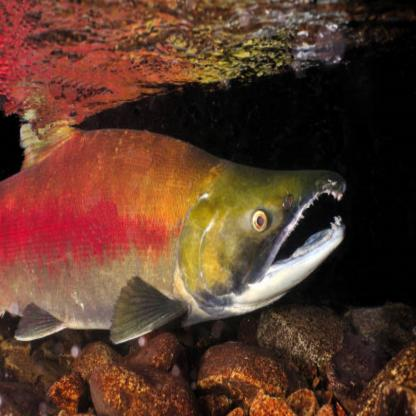sockeye: (0, 102, 337, 336)
